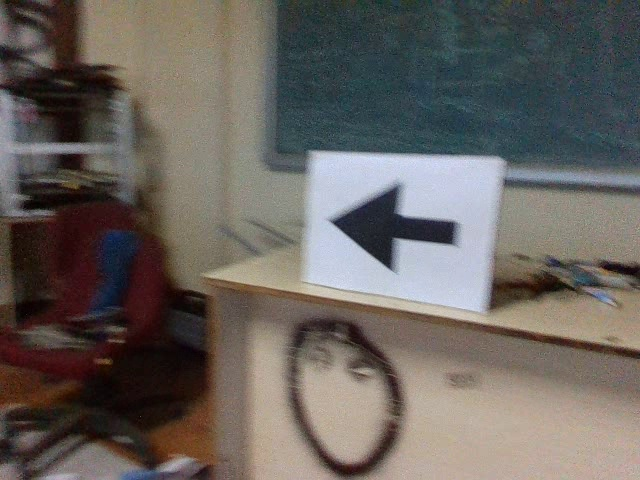Left: (322, 173, 470, 277)
